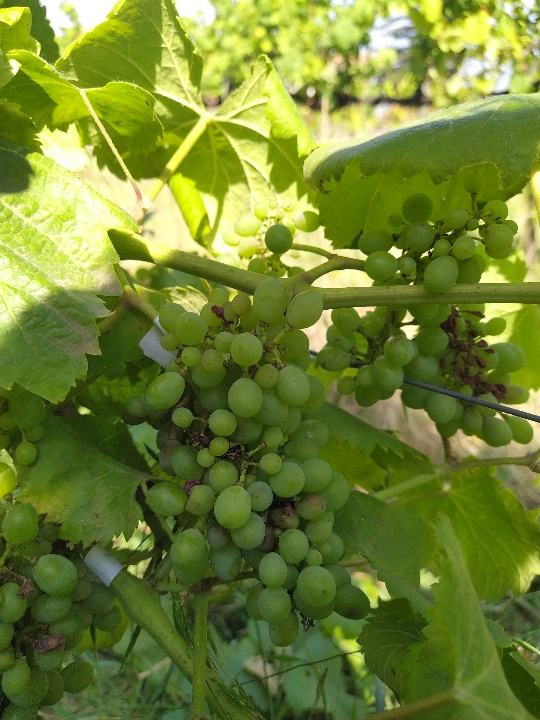grape: (118, 277, 371, 651), (315, 168, 533, 448)
